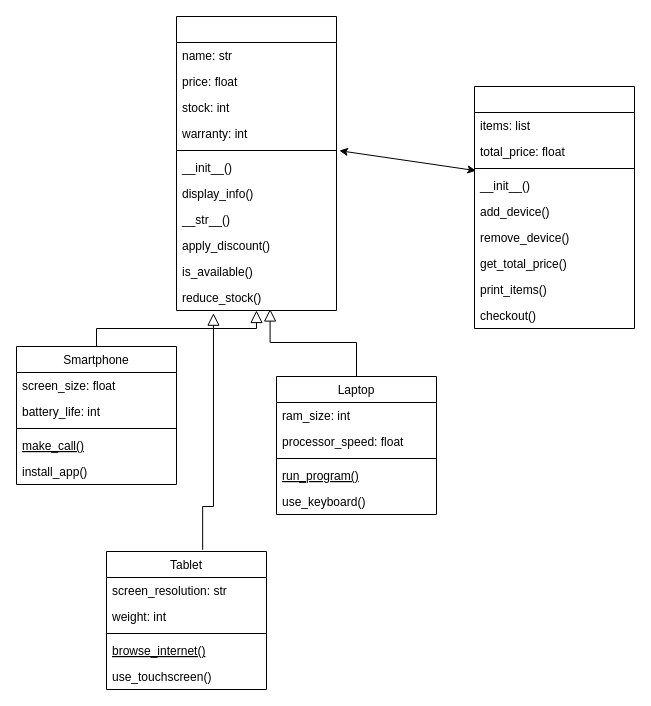
The diagram is 651 pixels wide and 706 high, and some of its shapes have lost their labels. Each missing label, with the box of its shape:
Cart: (474, 86, 634, 328)
Device: (176, 16, 336, 310)
